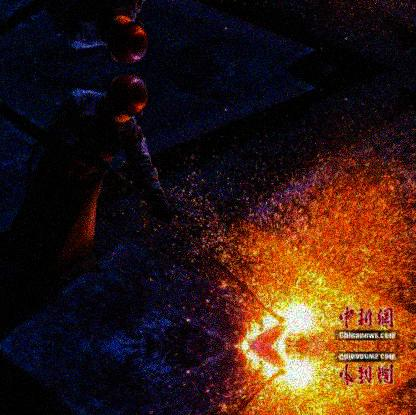helmet: (104, 74, 149, 127)
